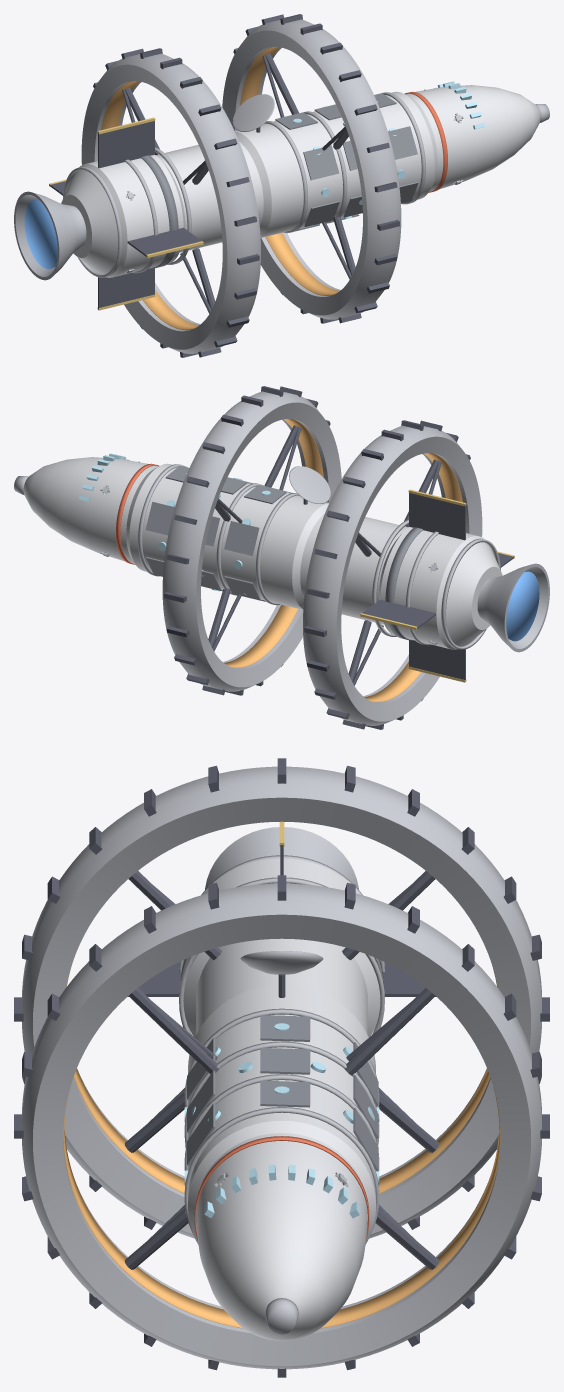
File: WarpShip.fbx
3 renders of one model, top to bottom at view 1: azimuth 30°, elevation 25°; view 2: azimuth 150°, elevation 25°; view 3: azimuth 270°, elevation 25°, orthographic. The views are drawn at different scales.
Visible parts, largest first — view 1: Body, Engine; view 2: Body, Engine; view 3: Body.
Boxes of the visible parts, box(x1,y1,x2,y2) form: Body: box(14, 14, 549, 357); Engine: box(24, 199, 57, 269); Body: box(14, 386, 549, 729); Engine: box(506, 571, 539, 641); Body: box(14, 758, 549, 1377).
Bounding box in the file's own units: 1.81 × 0.968 × 0.968.
